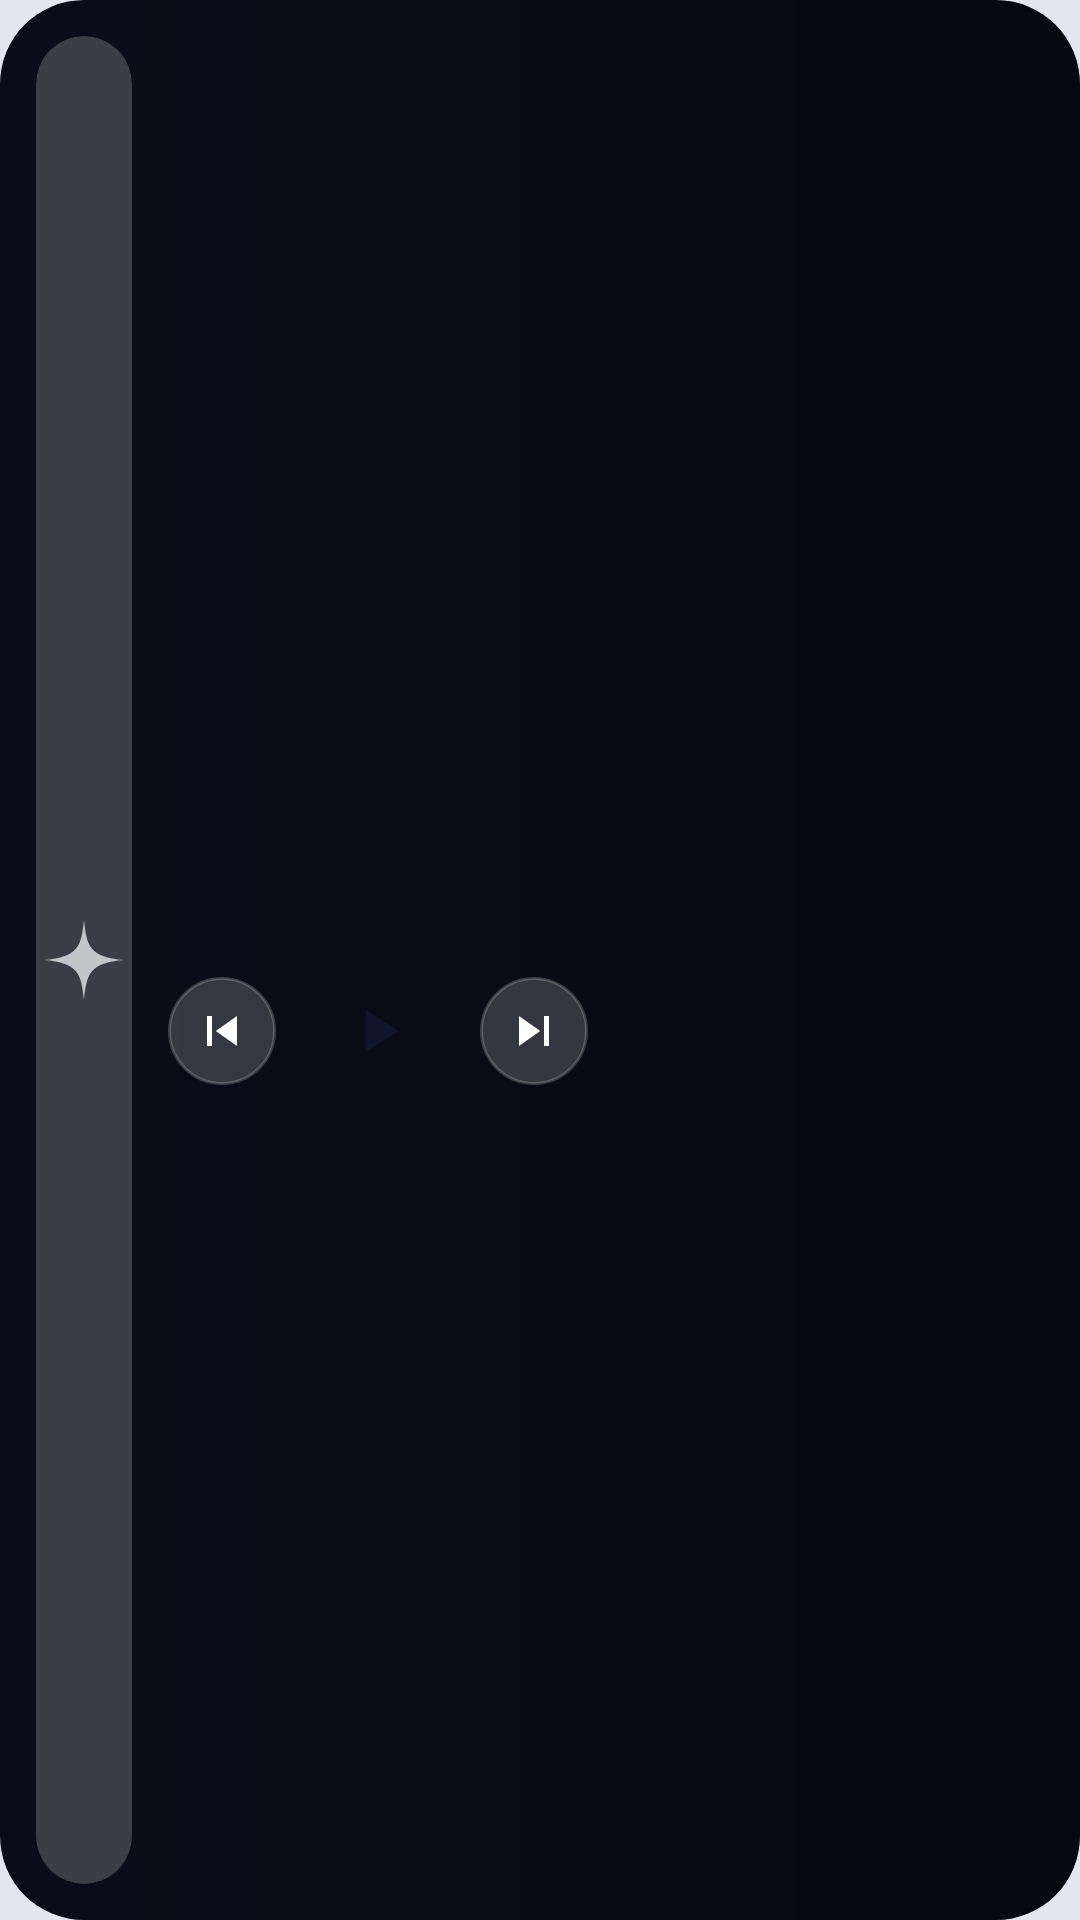

Icon bounding boxes for this 1080x1920 phone screenshot, format Rect(x1, y1, x2, y2):
Next: Rect(480, 977, 588, 1085)
Previous: Rect(168, 977, 276, 1085)
widget star: Rect(46, 922, 122, 999)
